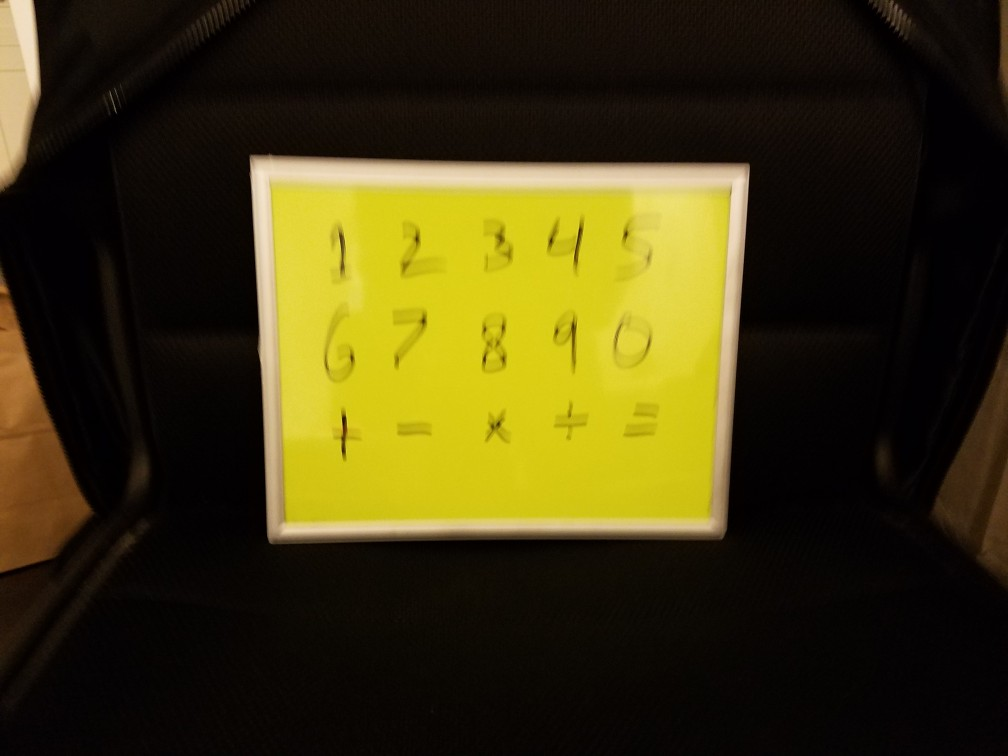+: (326, 405, 366, 469)
-: (392, 412, 441, 442)
0: (606, 310, 657, 377)
1: (320, 220, 356, 291)
2: (393, 218, 448, 286)
3: (483, 218, 521, 277)
4: (544, 215, 589, 276)
5: (611, 212, 665, 286)
6: (317, 304, 364, 389)
7: (383, 304, 433, 376)
8: (473, 310, 521, 381)
9: (547, 309, 583, 373)
=: (617, 395, 664, 444)
div: (548, 400, 593, 444)
x: (475, 399, 517, 448)
